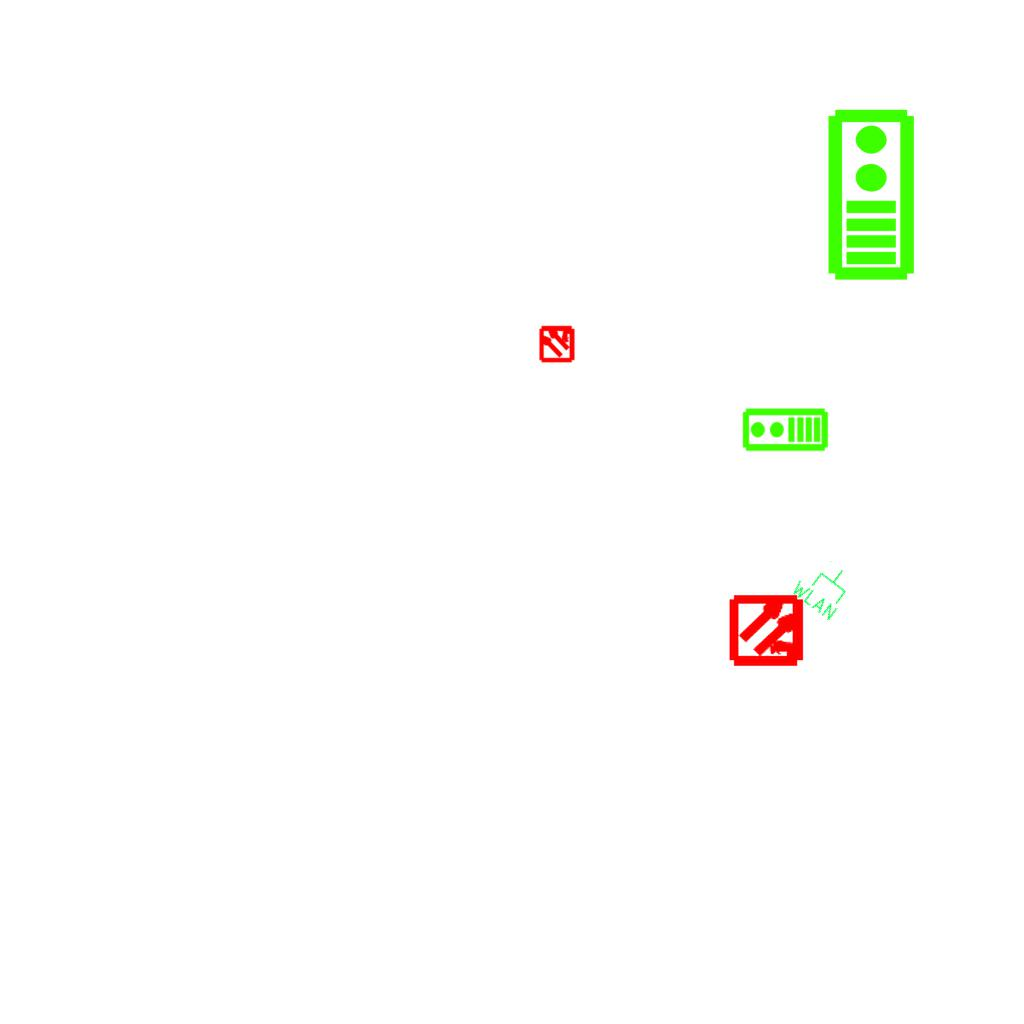Gegensprechanlage_mit_Video: (822, 106, 917, 282), (741, 407, 829, 454)
OT_Multisensormelder_(Kombination_RMO_WMD): (712, 574, 825, 687), (529, 315, 585, 371)
WLAN: (787, 550, 861, 624)
